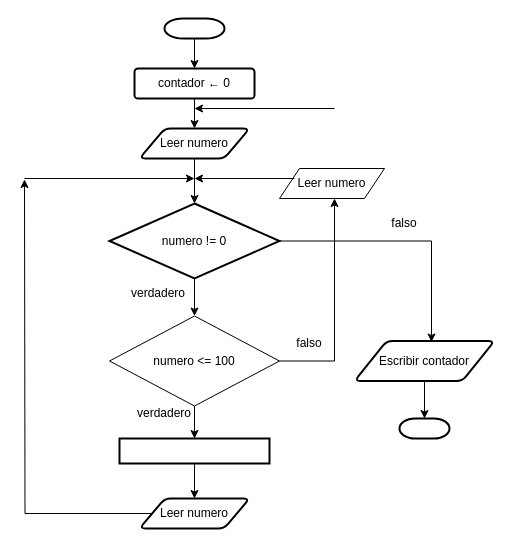
The diagram is 513 pixels wide and 546 high, and some of its shapes have lost their labels. The centre of each missing label's shape, as x and y in pixels:
contador ← contador + 1: the point at 194,450
Fin: the point at 424,428
Inicio: the point at 194,28
